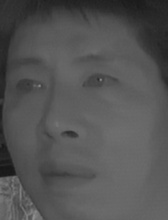eye: (79, 68, 123, 94), (11, 75, 50, 99)
mouth: (38, 156, 97, 189)
